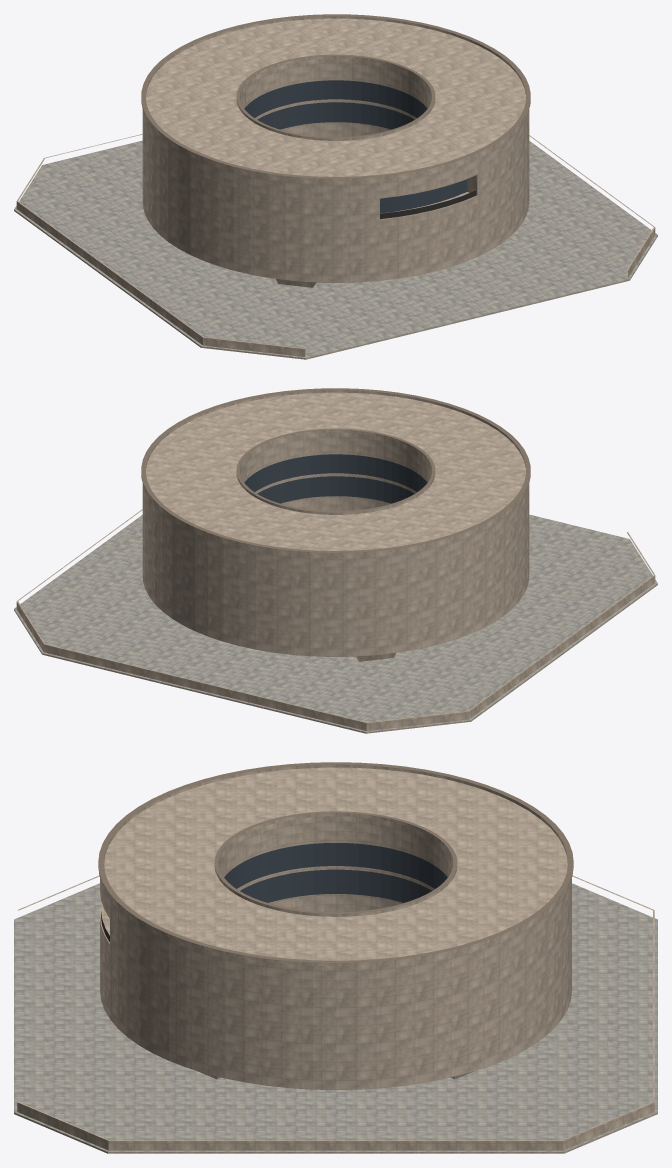
The model's file is hirshhorn_museum.glb.
The picture shows the model from 3 angles, top to bottom: view 1: azimuth 30°, elevation 25°; view 2: azimuth 150°, elevation 25°; view 3: azimuth 270°, elevation 25°; orthographic projection. The views are drawn at different scales.
Parts seen in each view (by area): view 1: hirshhorn_museum; view 2: hirshhorn_museum; view 3: hirshhorn_museum.
Boxes of the visible parts, x1=… form: hirshhorn_museum: x1=14, y1=14, x2=657, y2=359; hirshhorn_museum: x1=14, y1=388, x2=657, y2=733; hirshhorn_museum: x1=14, y1=762, x2=657, y2=1153.
Size of the model in its own units: 96 by 25.5 by 96.
3 materials, 3 textured.
